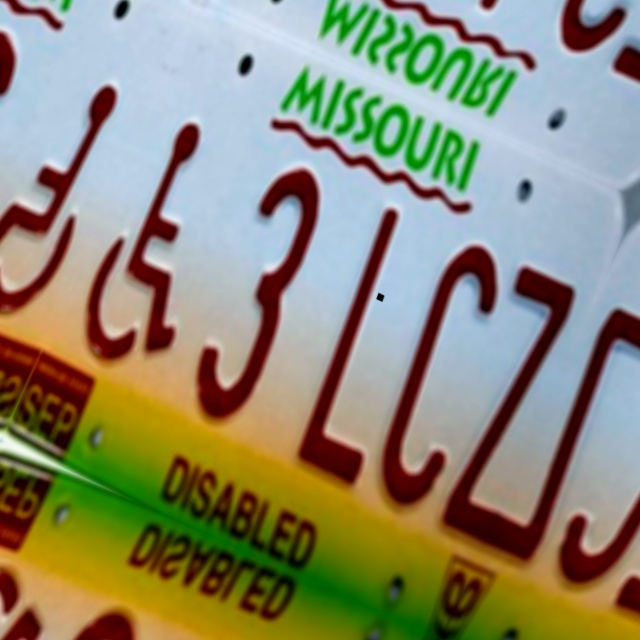ISA: (53, 104, 269, 399), (0, 47, 144, 343), (0, 538, 72, 640)
